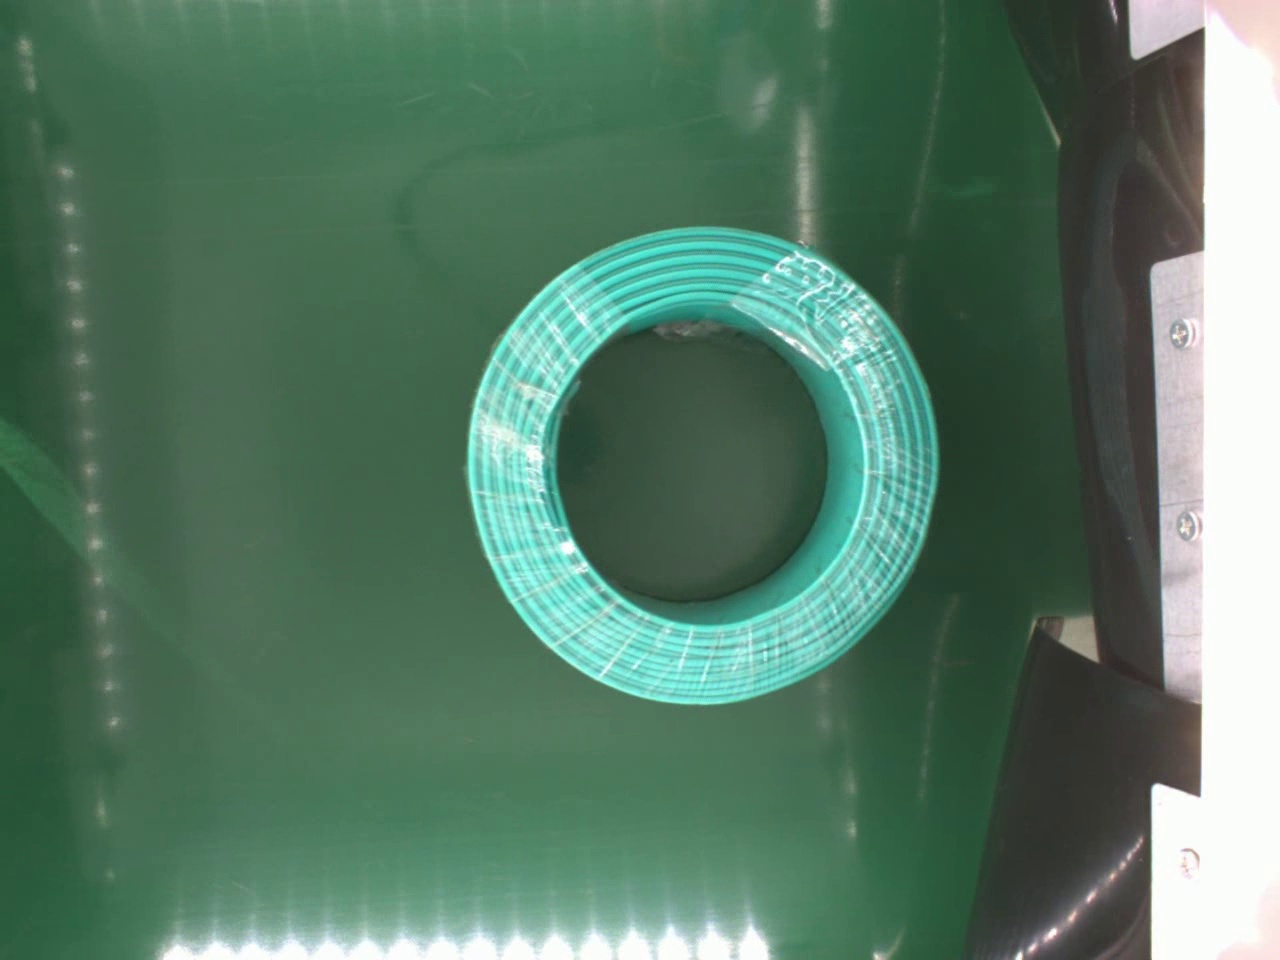green: (469, 220, 943, 702)
